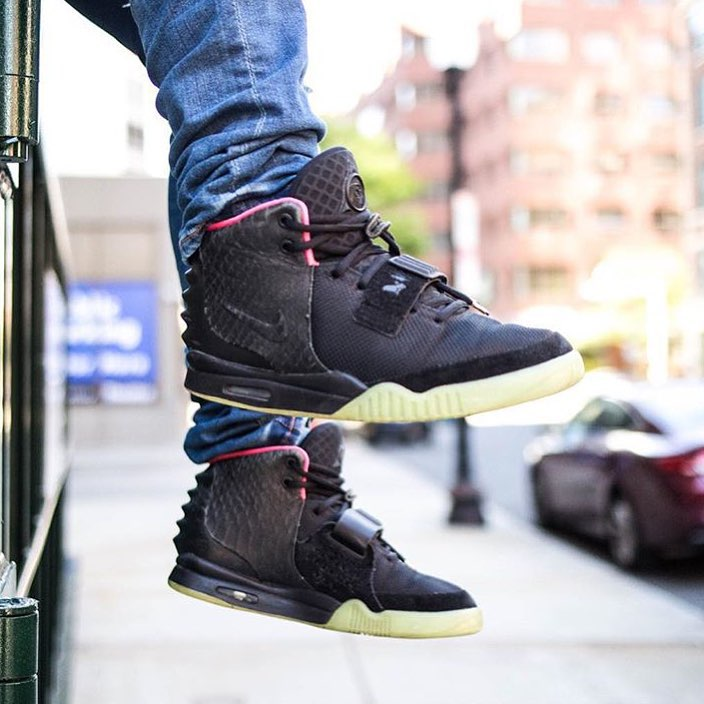sneaker: (160, 119, 606, 452), (143, 404, 499, 659)
